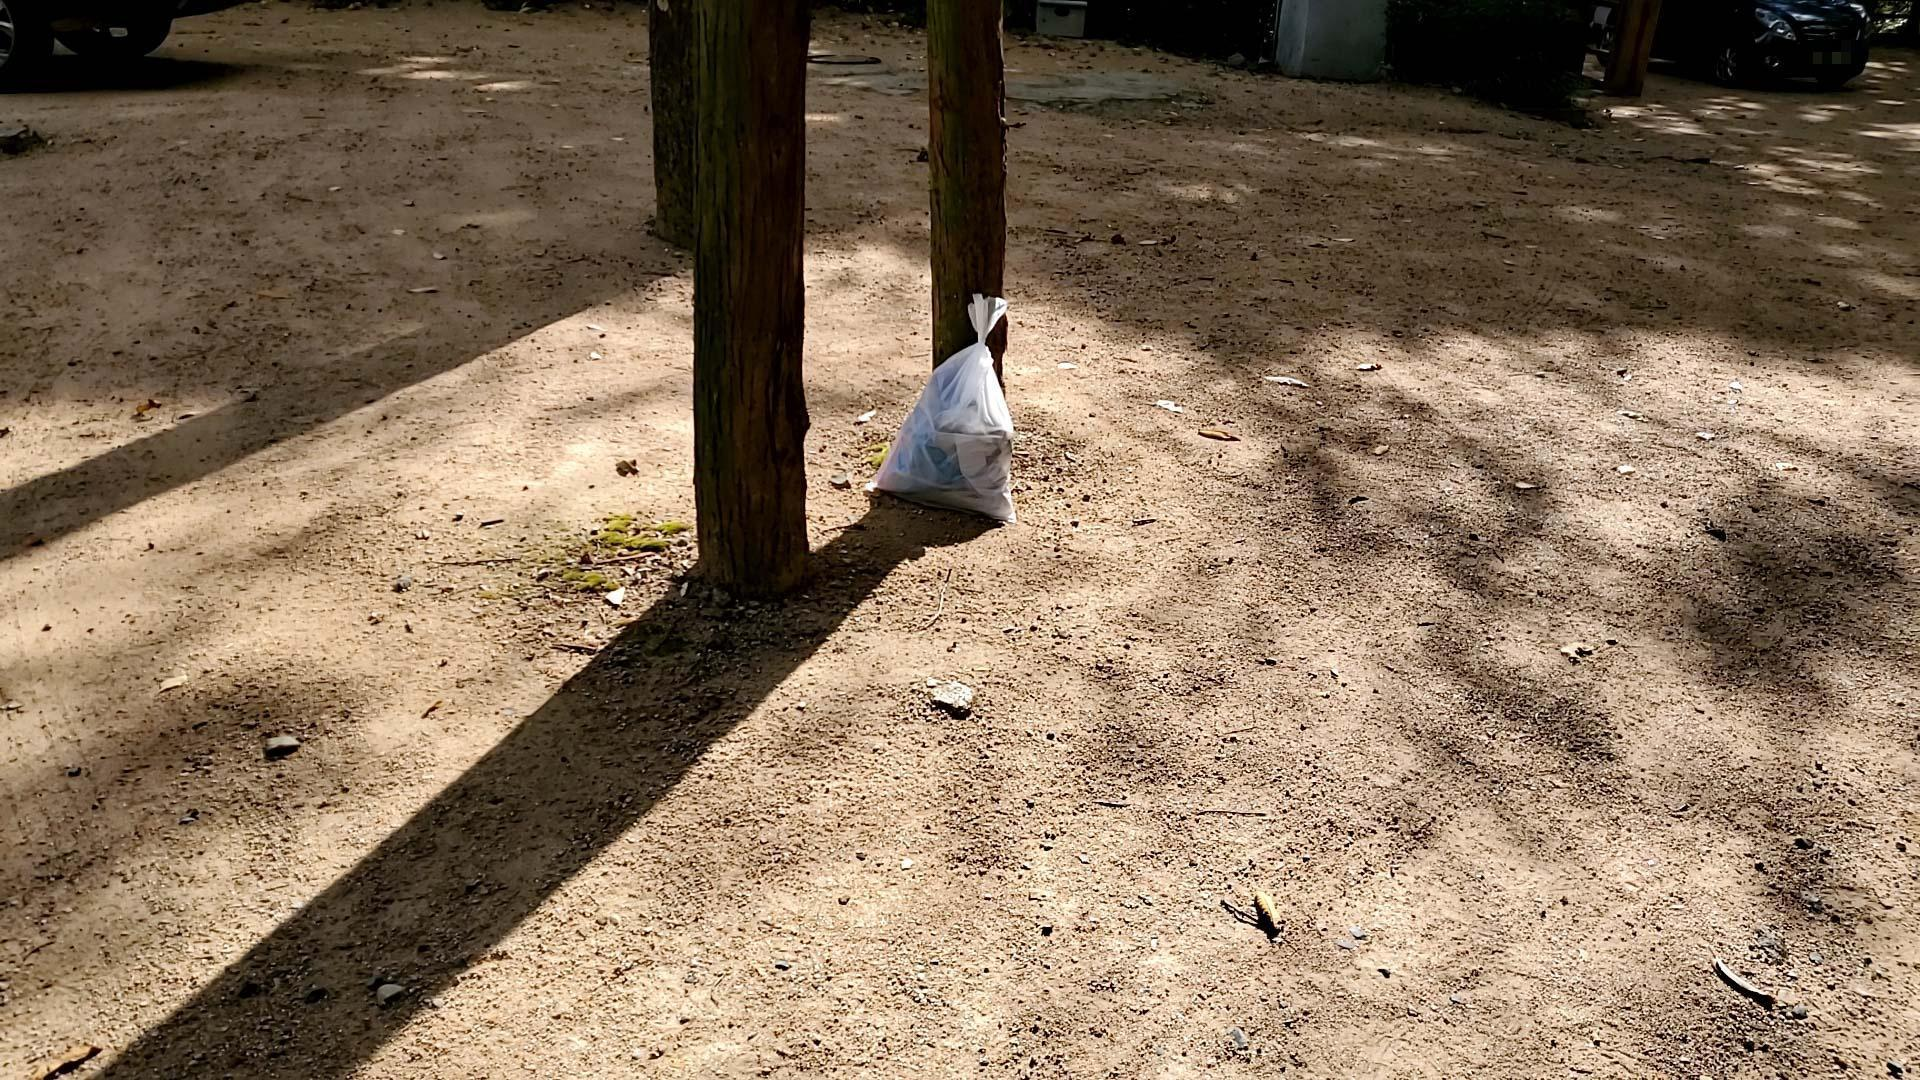white_bag: (862, 284, 1042, 531)
